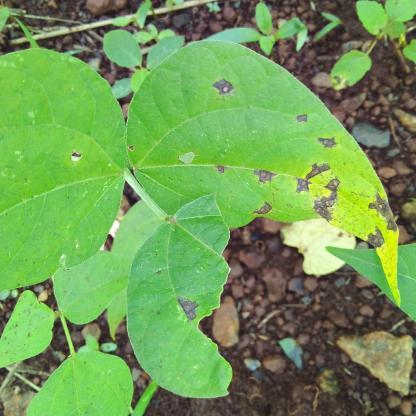Beans_Angular_LeafSpot: (125, 42, 405, 298), (0, 47, 122, 292), (128, 201, 234, 398), (0, 293, 57, 377)
